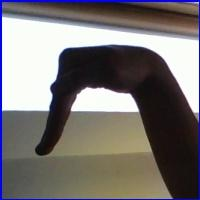A: (31, 41, 171, 165)
